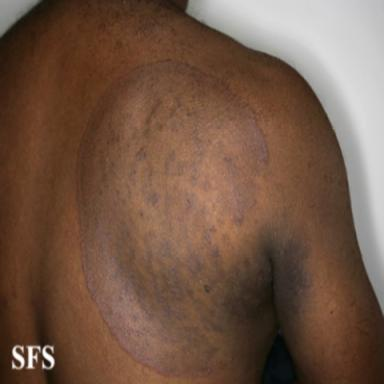Tinea-Corporis: (77, 58, 272, 376)
